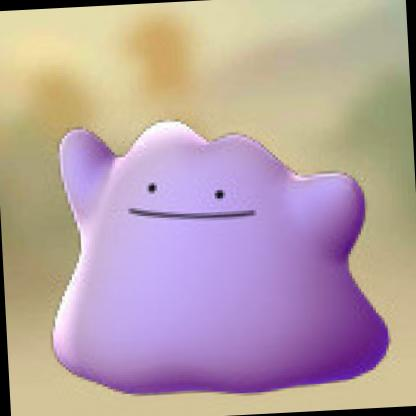Ditto: (1, 3, 416, 416)
